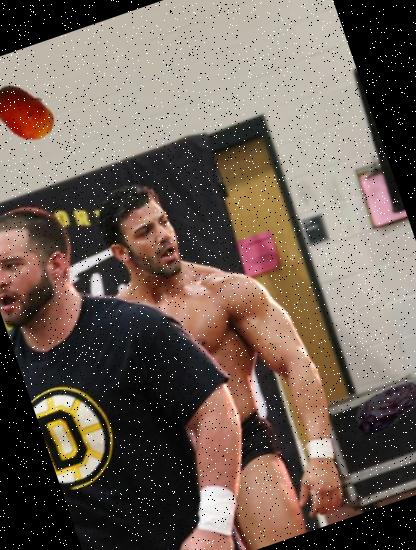Dates: (342, 359, 416, 452)
Nectarine: (0, 69, 66, 155)
